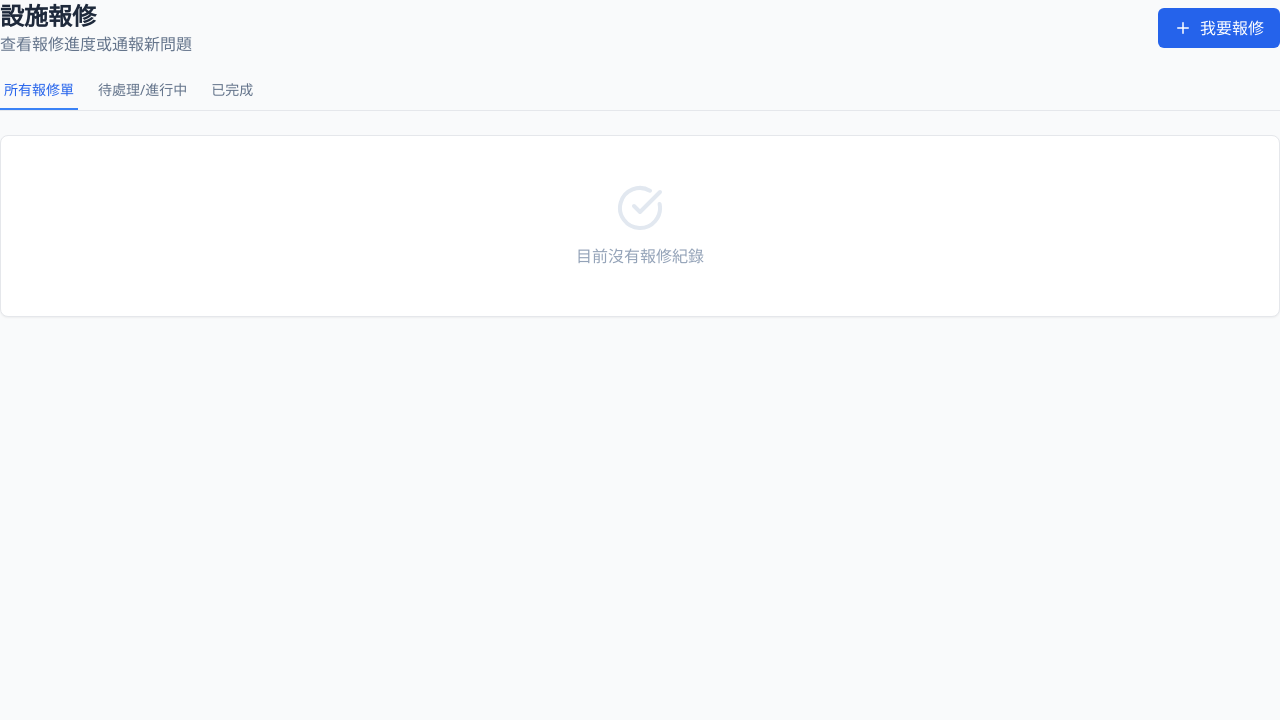
Scenario: Repairs page — reporter info pre-fill and required validation › pre-fills 班級/部門 and 電話 from the current User profile when opening the create form
Click the button "我要報修".
click(1219, 28)  # box [1158,8,1279,48]
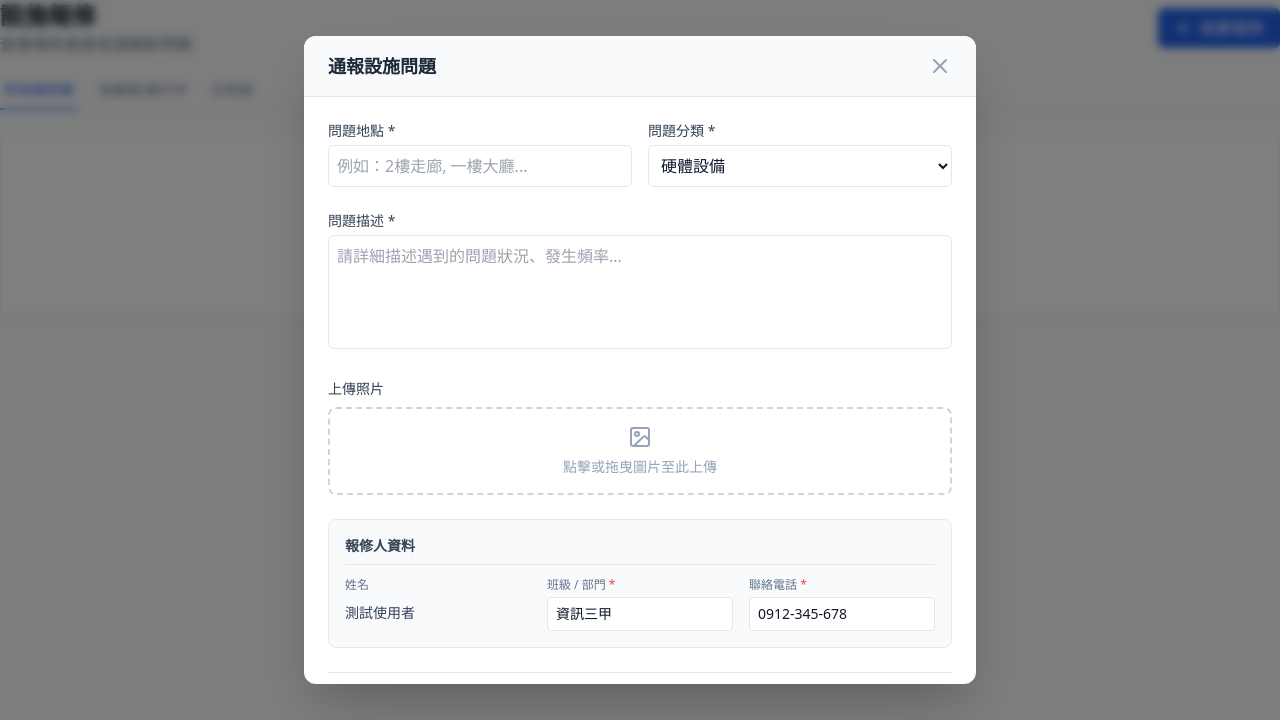
Result: the heading "通報設施問題" is shown at [328,52,436,80]
Result: the field with placeholder "例: 資訊三甲" below "班級 / 部門" holds "資訊三甲" at [547,597,733,631]
Result: the field with placeholder "09xx-xxx-xxx" below "聯絡電話" holds "0912-345-678" at [749,597,935,631]
